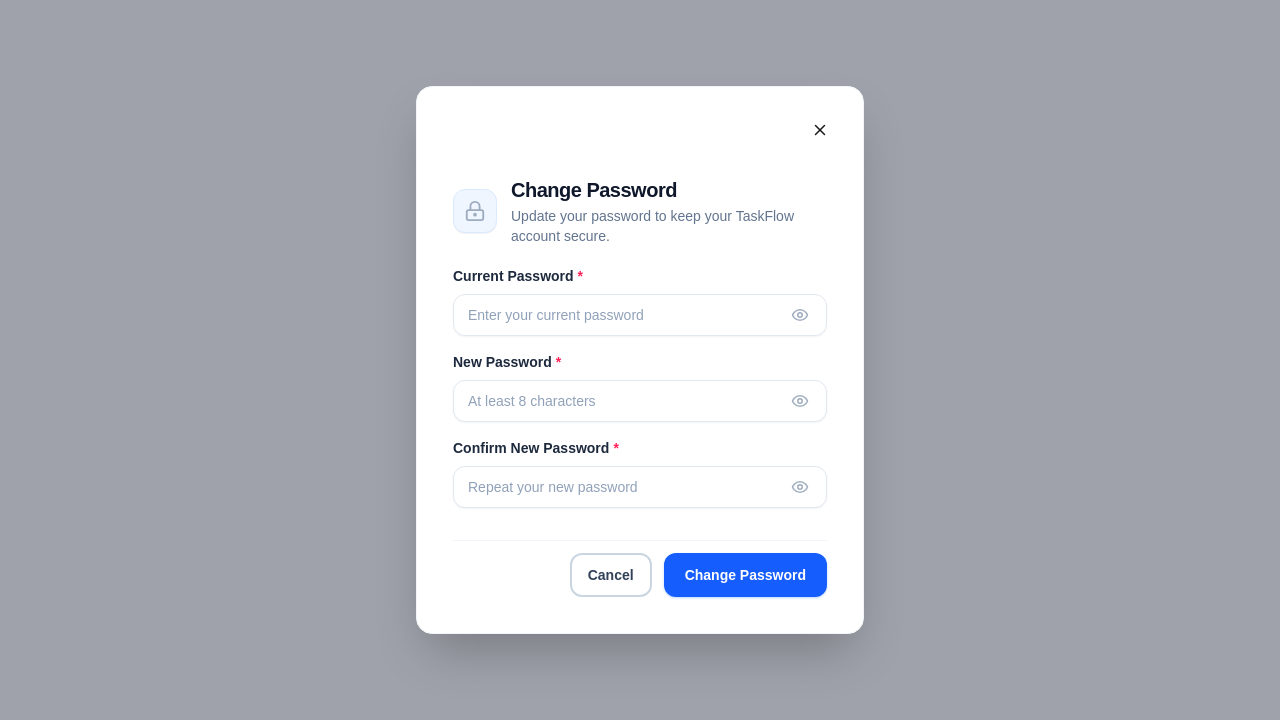
Test: ChangePasswordModal Component › shows error when passwords do not match
Type "CurrentPass@123" into the password field labelled "Current Password*" at (640, 315), box 453,294 -> 827,336
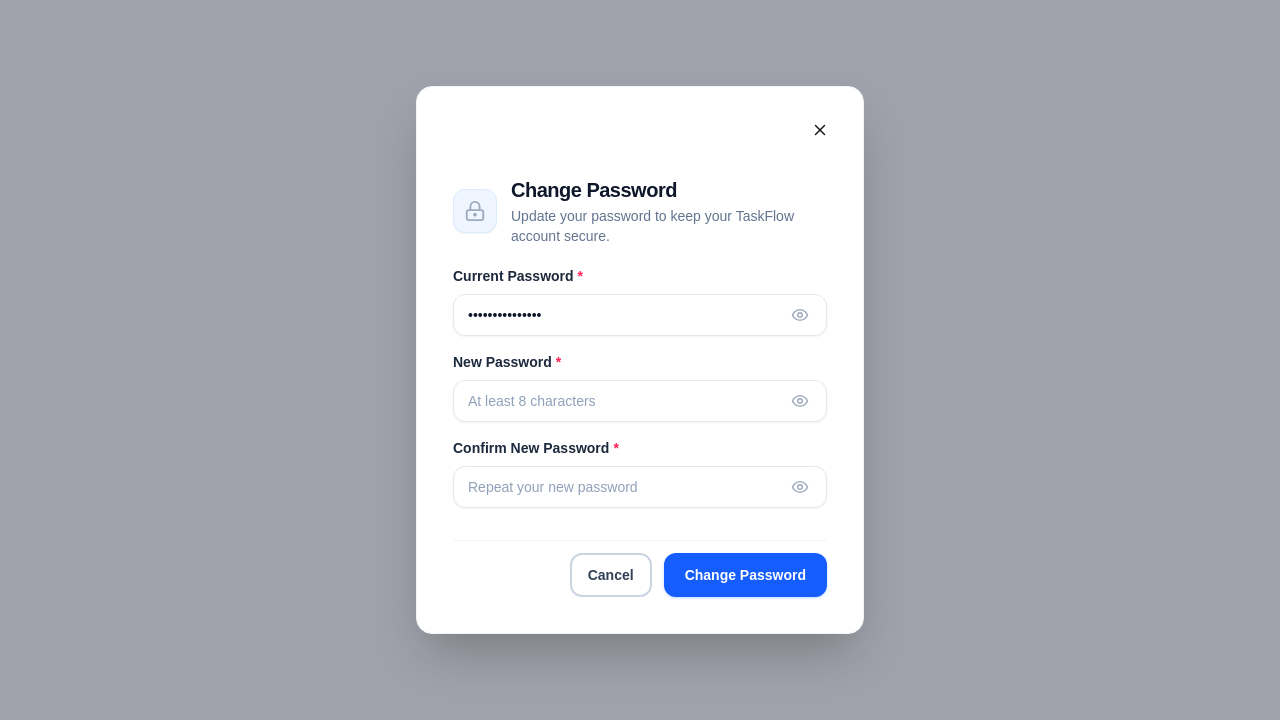
Type "NewPassword@123" into the password field labelled "New Password*" at (640, 401), box 453,380 -> 827,422
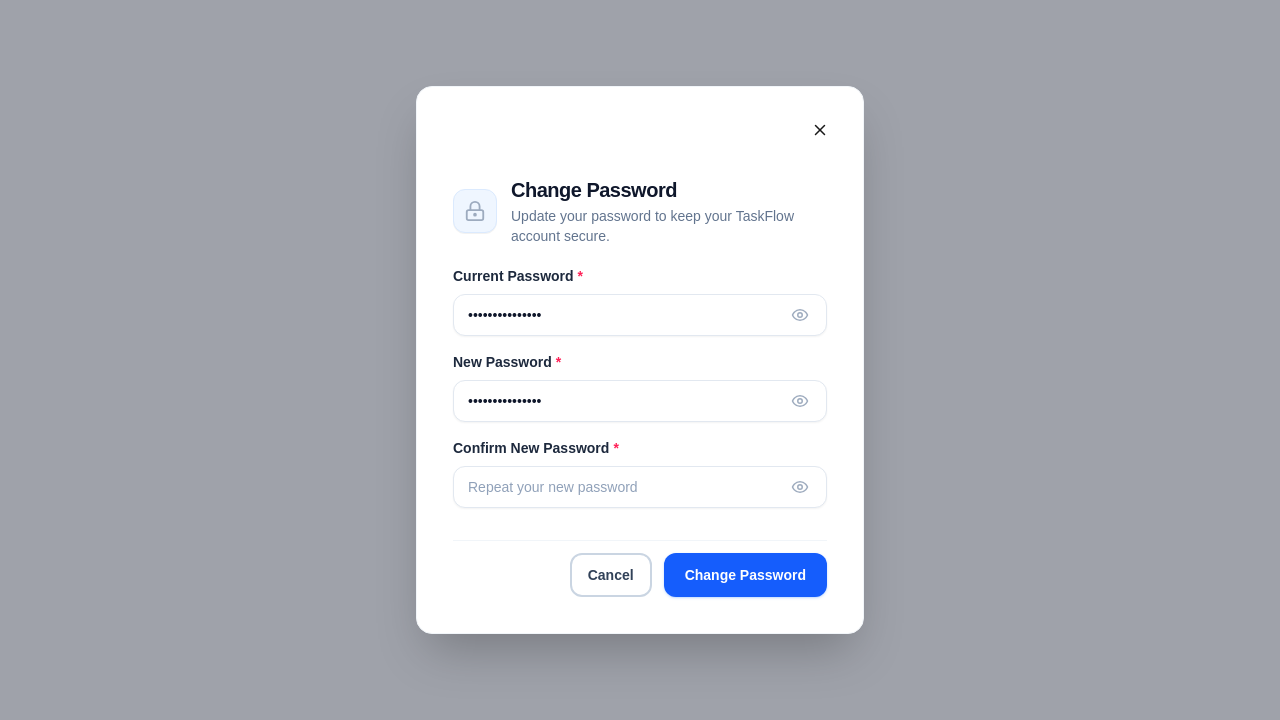
Type "DifferentPassword@456" into the password field labelled "Confirm New Password*" at (640, 487), box 453,466 -> 827,508
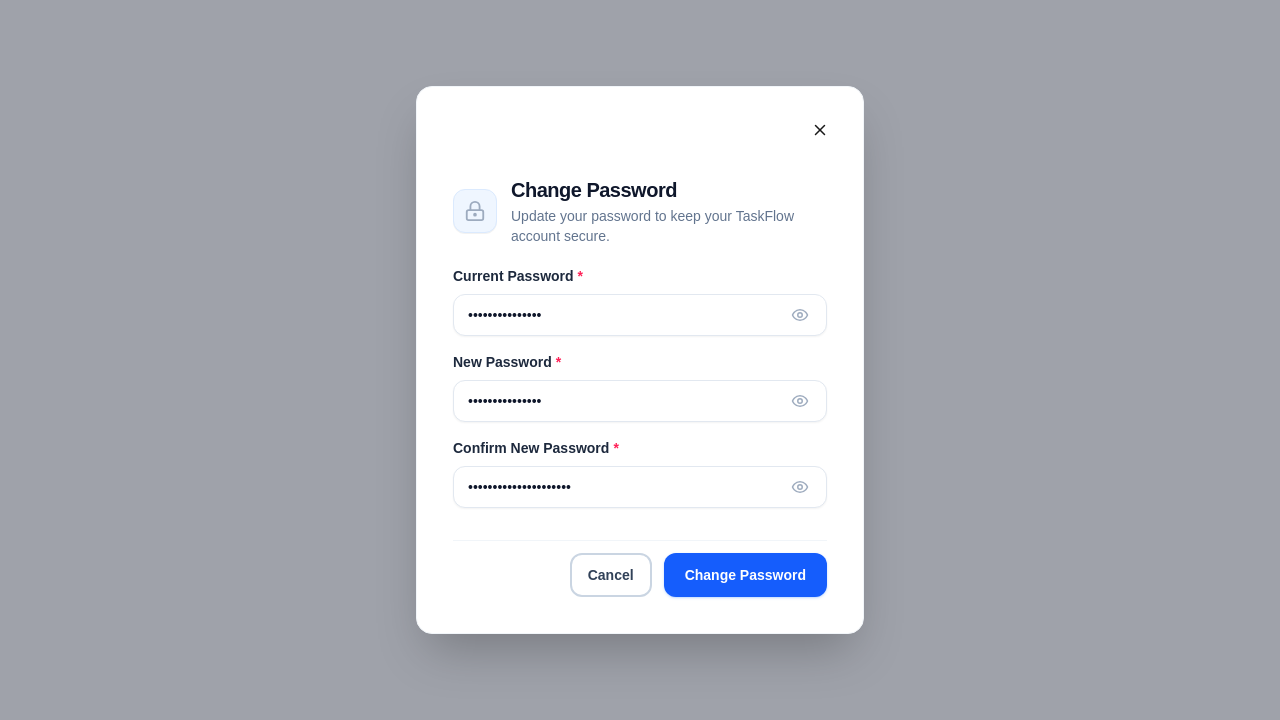
Click the button "Change Password" at (745, 575), box 664,553 -> 827,597
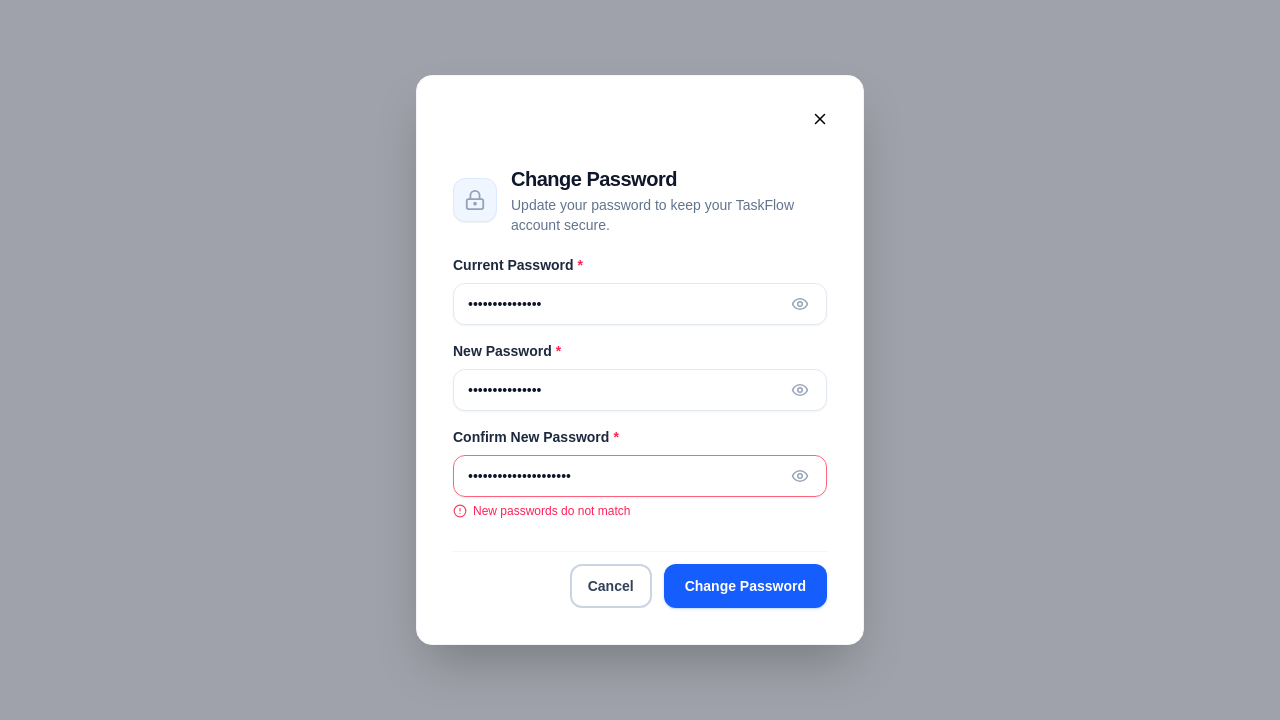
Now the text "New passwords do not match" is shown, box 473,503 -> 630,519
